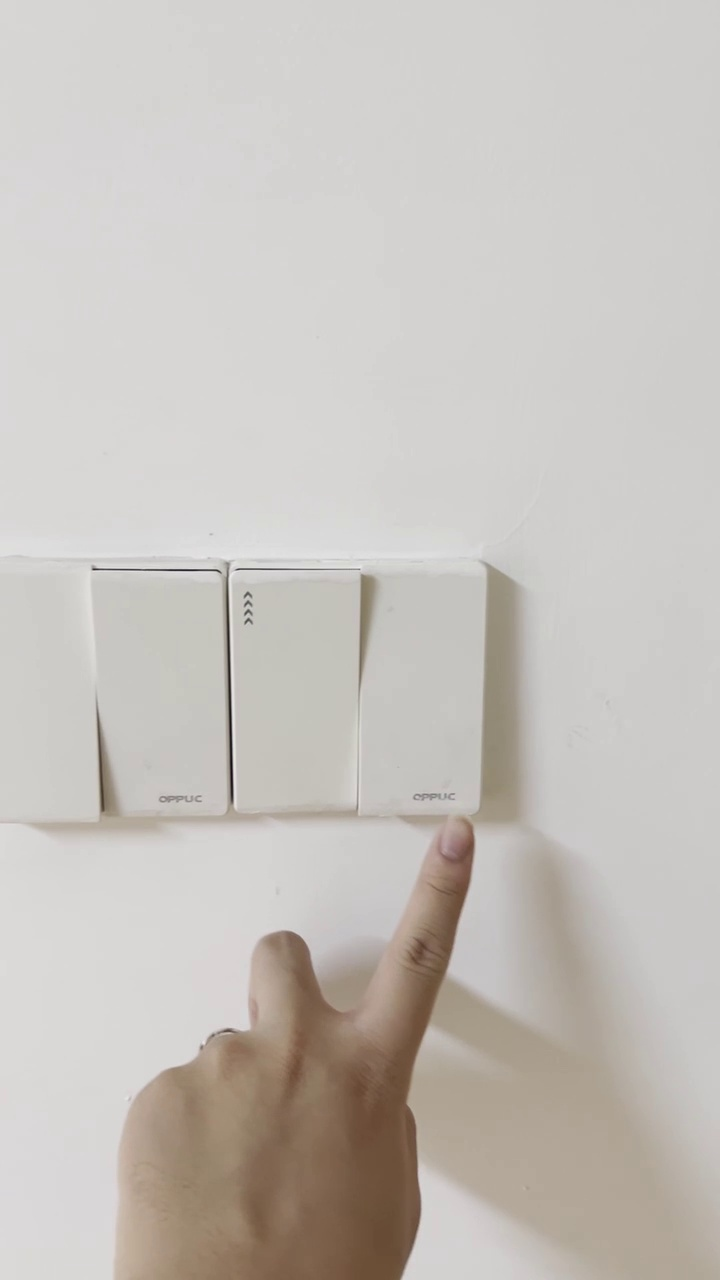button1: (102, 571, 226, 810), (239, 576, 355, 814), (368, 568, 476, 809), (0, 567, 85, 819)
